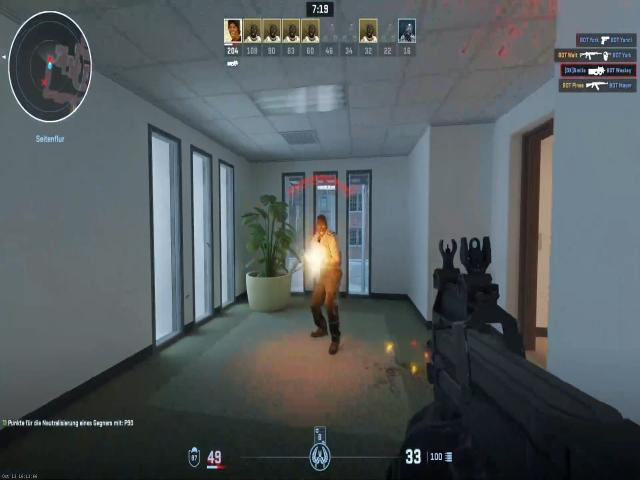T: (306, 215, 341, 289)
T-Head: (314, 215, 332, 241)
